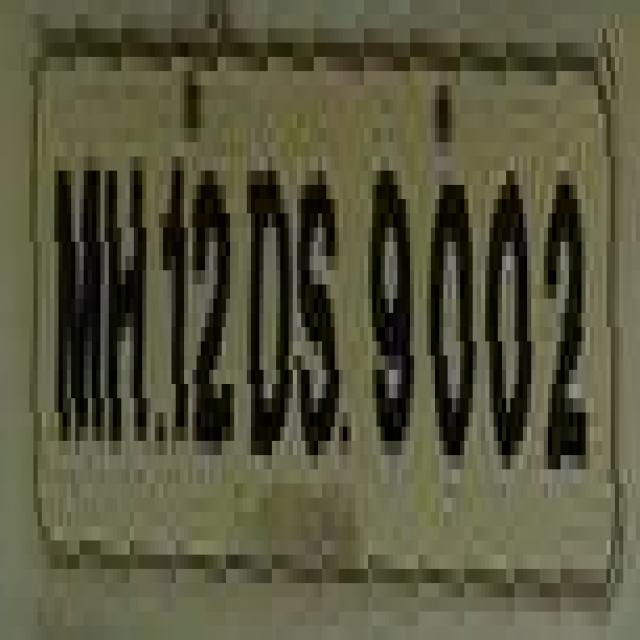license_plate: (0, 14, 607, 583)
